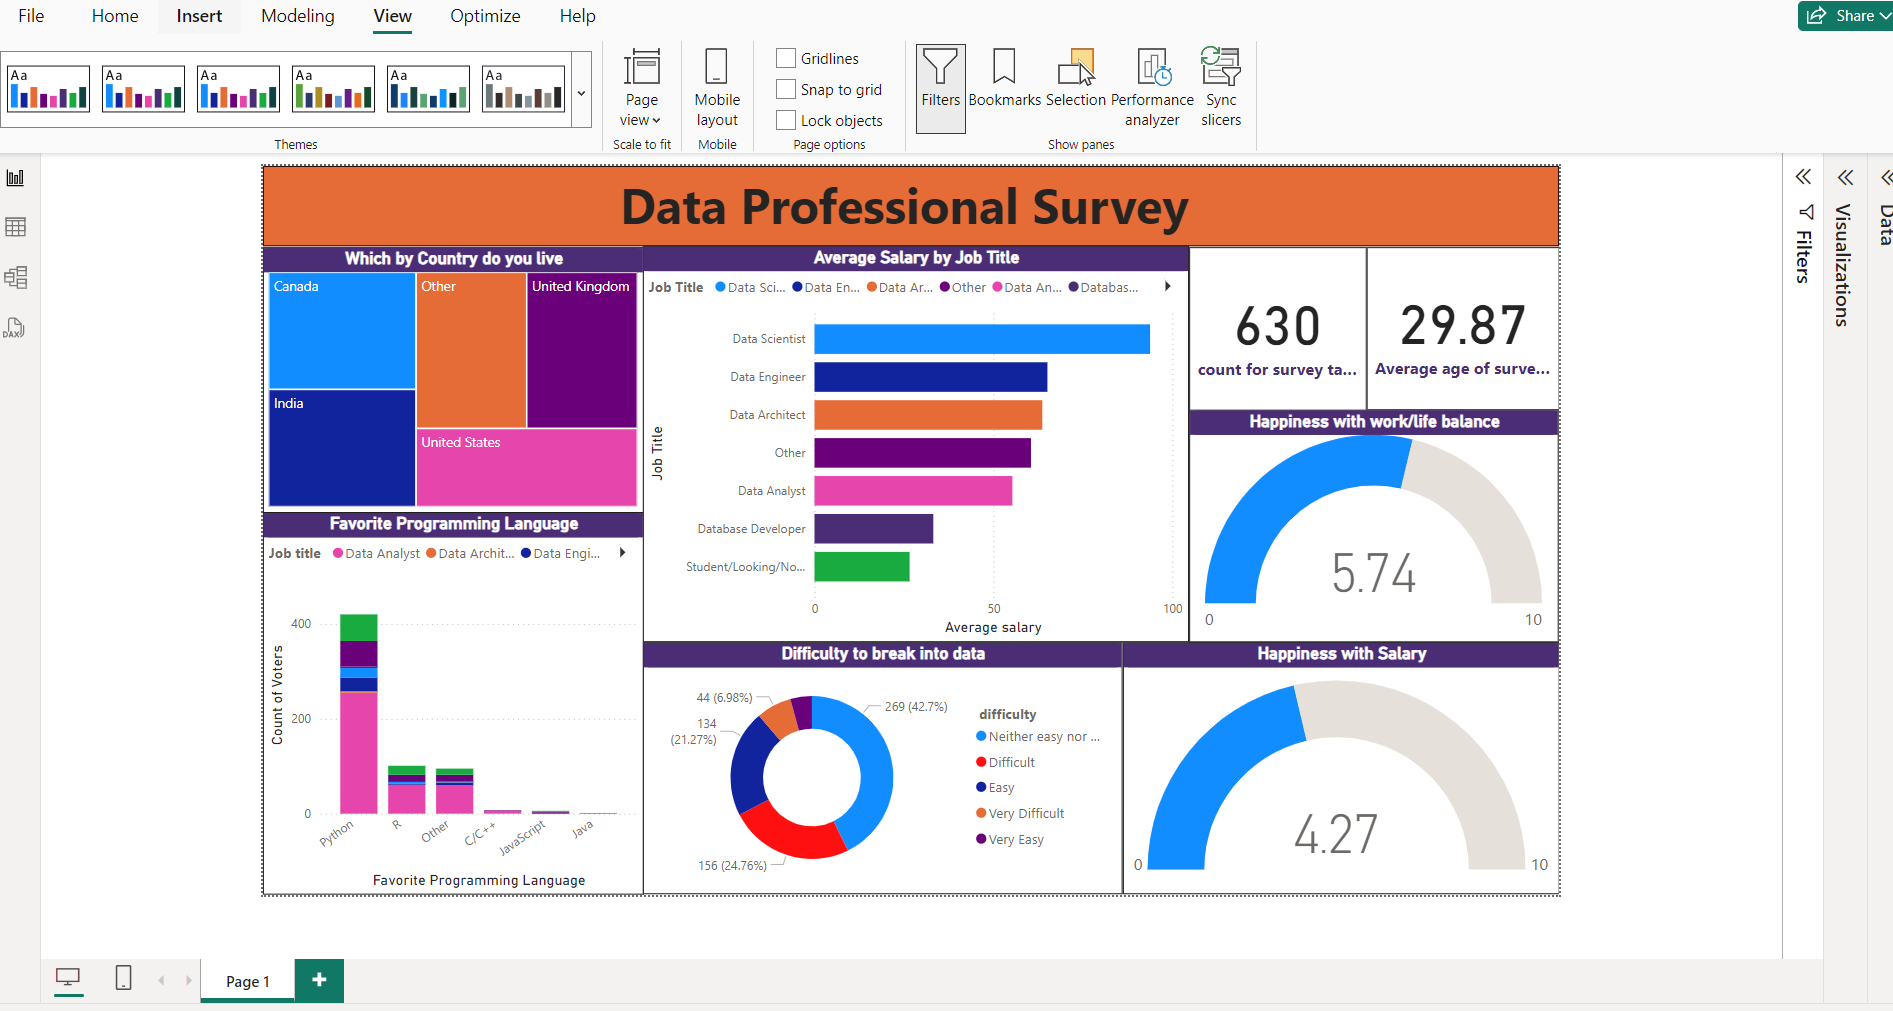

Layout of this report page (visuals, bound fields, positions):
{"tool":"powerbi","page":{"name":"Page 1","canvas":[1280,720],"ordinal":0},"visuals":[{"type":"textbox","box":[0,0,1280.3,79.6],"z":0},{"type":"card","fields":{"Values":["CountNonNull(Data Professional Survey.Unique ID)"]},"box":[915.4,79.9,174.9,162.9],"z":1000},{"type":"card","fields":{"Values":["Avg(Data Professional Survey.Q10 - Current Age)"]},"box":[1090,79.8,190.4,161.2],"z":2000},{"type":"barChart","title":"Average Salary by Job Title ","fields":{"Category":["Data Professional Survey.Q1 - Which Title Best Fits your Current Role?.1"],"Y":["Avg(Data Professional Survey.Average salary )"],"Series":["Data Professional Survey.Q1 - Which Title Best Fits your Current Role?.1"]},"box":[375.6,79.2,539.2,391],"z":3000},{"type":"columnChart","title":" Favorite Programming Language","fields":{"Category":["Data Professional Survey.Q5 - Favorite Programming Language.1"],"Y":["CountNonNull(Data Professional Survey.Unique ID)"],"Series":["Data Professional Survey.Q1 - Which Title Best Fits your Current Role?.1"]},"box":[0,342.3,376.1,377.6],"z":4000},{"type":"treemap","fields":{"Group":["Data Professional Survey.Q11 - Which Country do you live in?.1"],"Values":["Count(Data Professional Survey.Q11 - Which Country do you live in?.1)"]},"box":[0,79.8,376.1,262.5],"z":5000},{"type":"gauge","title":" Happiness with work/life balance ","fields":{"Y":["Avg(Data Professional Survey.Q6 - How Happy are you in your Current Position with the following? (Work/Life Balance))"],"MinValue":["Min(Data Professional Survey.Q6 - How Happy are you in your Current Position with the following? (Work/Life Balance))1"],"MaxValue":["Max(Data Professional Survey.Q6 - How Happy are you in your Current Position with the following? (Work/Life Balance))"]},"box":[915.4,241.3,364.9,229.2],"z":6000},{"type":"gauge","title":"Happiness  with Salary ","fields":{"Y":["Avg(Data Professional Survey.Q6 - How Happy are you in your Current Position with the following? (Salary))"],"MinValue":["Min(Data Professional Survey.Q6 - How Happy are you in your Current Position with the following? (Salary))1"],"MaxValue":["Max(Data Professional Survey.Q6 - How Happy are you in your Current Position with the following? (Salary))2"]},"box":[849,470.5,431.3,248.8],"z":7000},{"type":"donutChart","title":"Difficulty to break into data","fields":{"Category":["Data Professional Survey.Q7 - How difficult was it for you to break into Data?"],"Y":["CountNonNull(Data Professional Survey.Q7 - How difficult was it for you to break into Data?)"]},"box":[375.5,470.5,473.5,248.8],"z":8000}]}

Visuals, with their boxes on the page's 1280x720 design canvas (x1, y1, x2, y2). These are canvas units, not pixel positions in the 1893x1011 screenshot, which may show the page scaled, cropped or inside an application window:
textbox: {"left": 0, "top": 0, "right": 1280, "bottom": 80}
card - CountNonNull(Data Professional Survey.Unique ID): {"left": 915, "top": 80, "right": 1090, "bottom": 243}
card - Avg(Data Professional Survey.Q10 - Current Age): {"left": 1090, "top": 80, "right": 1280, "bottom": 241}
"Average Salary by Job Title " barChart: {"left": 376, "top": 79, "right": 915, "bottom": 470}
" Favorite Programming Language" columnChart: {"left": 0, "top": 342, "right": 376, "bottom": 720}
treemap - Data Professional Survey.Q11 - Which Country do you live in?.1 x Count(Data Professional Survey.Q11 - Which Country do you live in?.1): {"left": 0, "top": 80, "right": 376, "bottom": 342}
" Happiness with work/life balance " gauge: {"left": 915, "top": 241, "right": 1280, "bottom": 470}
"Happiness  with Salary " gauge: {"left": 849, "top": 470, "right": 1280, "bottom": 719}
"Difficulty to break into data" donutChart: {"left": 376, "top": 470, "right": 849, "bottom": 719}
